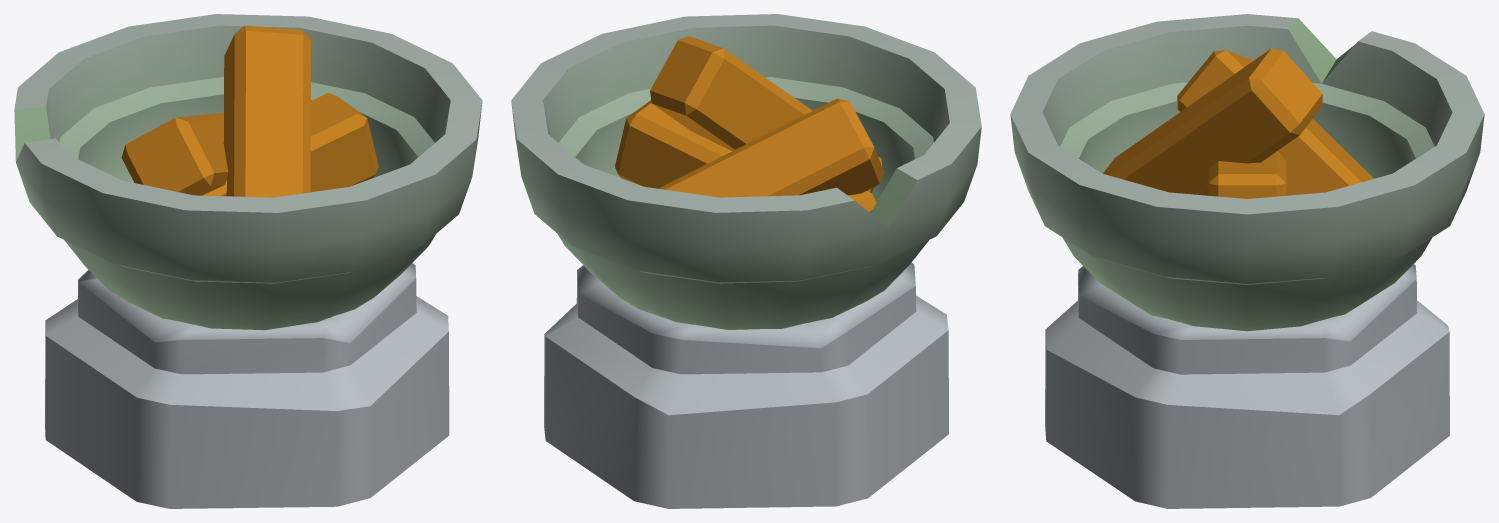
Rendered from Braizer.fbx.
3 views of the same model, side by side, from view 1: azimuth 30°, elevation 25°; view 2: azimuth 150°, elevation 25°; view 3: azimuth 270°, elevation 25° (orthographic).
Visible parts, largest first — view 1: pSphere1, Brazier, pCube11; view 2: pSphere1, Brazier, pCube11; view 3: pSphere1, Brazier, pCube11.
Part boxes in pixels (<box>): pSphere1: <box>14,14,482,330</box>; Brazier: <box>45,263,449,508</box>; pCube11: <box>121,25,378,197</box>; pSphere1: <box>511,14,981,329</box>; Brazier: <box>544,262,948,508</box>; pCube11: <box>615,36,884,212</box>; pSphere1: <box>1010,14,1484,331</box>; Brazier: <box>1045,264,1449,508</box>; pCube11: <box>1103,48,1373,198</box>.
Bounding box in the file's own units: 9.23 × 8.31 × 9.23.
1 material, 1 textured.
